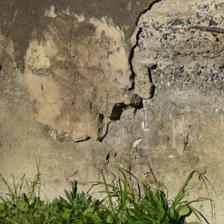Crack: (42, 0, 123, 85), (44, 60, 117, 106)
